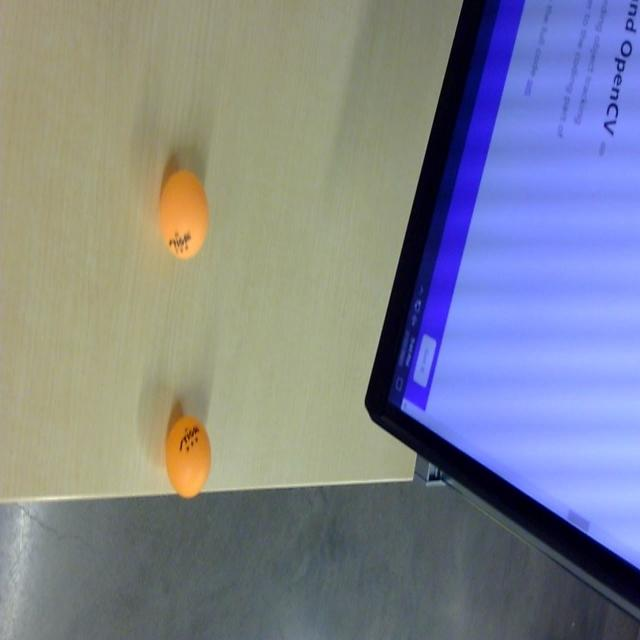ball: (157, 166, 210, 259), (165, 416, 211, 500)
